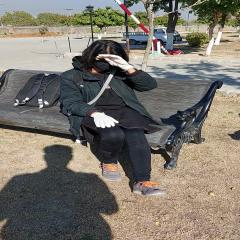gloved: (100, 55, 134, 70), (92, 113, 118, 128)
